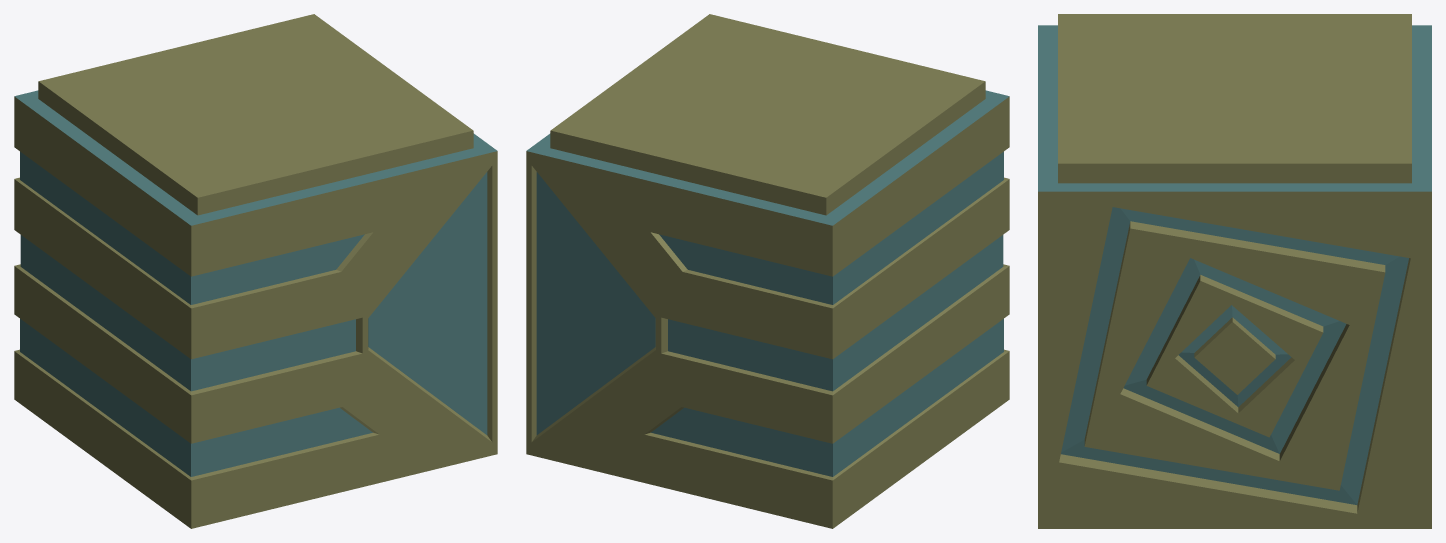
File: wall1_remains_blue.fbx
3 renders of one model, left to right at view 1: azimuth 30°, elevation 25°; view 2: azimuth 150°, elevation 25°; view 3: azimuth 270°, elevation 25°, orthographic. The views are drawn at different scales.
Parts seen in each view (by area): view 1: Plane; view 2: Plane; view 3: Plane.
Boxes of the visible parts, x1,y1,x2,y2 form: Plane: (14,14,497,528); Plane: (526,14,1009,528); Plane: (1038,14,1431,528).
Bounding box in the file's own units: 1 × 1 × 1.
Materials: 1 (1 with a texture image).
